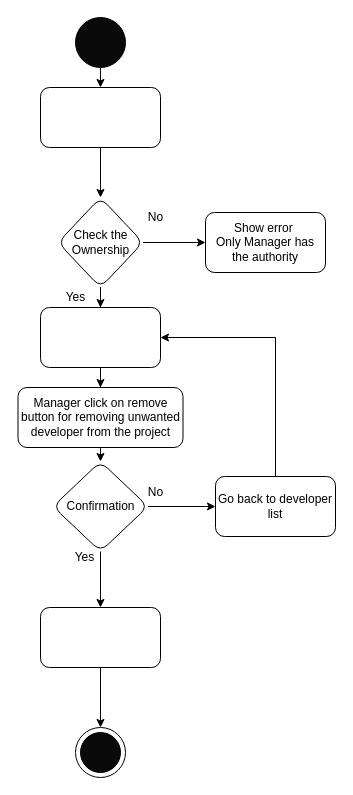
Image size: 353x795. Some labels were removed from this diagram. Each missing label, with the centre of its shape:
"Developer removed successfully" goes at (x=100, y=637).
"List of developer show which is added in the project" goes at (x=100, y=337).
"User Login" goes at (x=100, y=117).
